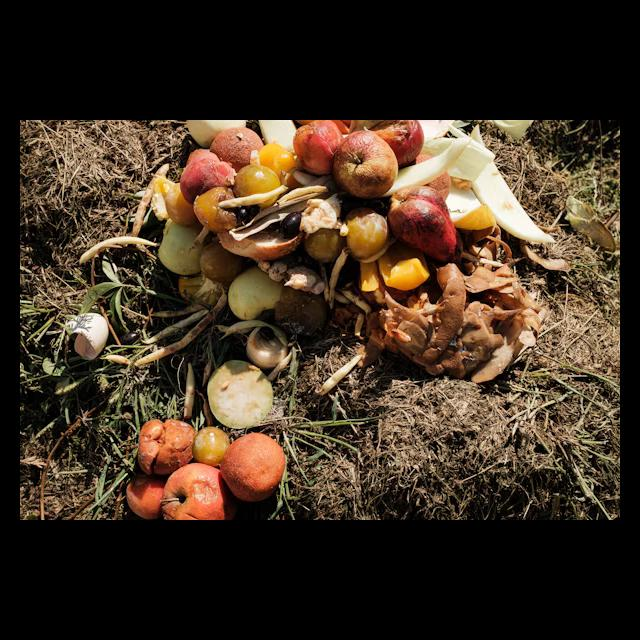food_waste: (371, 392, 519, 517), (505, 365, 620, 520), (365, 267, 534, 372), (447, 123, 574, 256), (22, 120, 130, 241), (23, 400, 125, 520), (539, 236, 620, 375), (382, 181, 469, 272), (378, 139, 492, 198), (212, 424, 289, 511), (205, 364, 285, 441), (228, 242, 292, 329), (326, 136, 401, 209), (296, 441, 361, 520), (45, 305, 118, 375), (143, 211, 219, 278), (305, 202, 386, 263), (302, 340, 362, 420), (294, 121, 359, 192), (135, 411, 201, 480), (153, 463, 226, 519), (140, 170, 215, 221), (184, 143, 241, 199), (236, 152, 289, 212), (205, 120, 274, 165), (566, 194, 618, 253), (376, 120, 436, 167), (231, 312, 280, 364)
